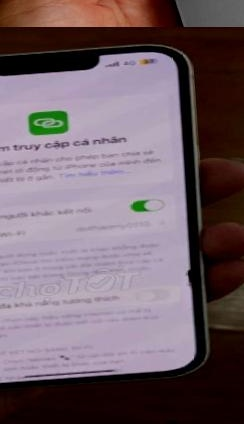screen_defect: (173, 263, 209, 301)
